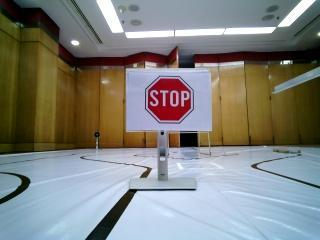stop: (135, 72, 210, 127)
